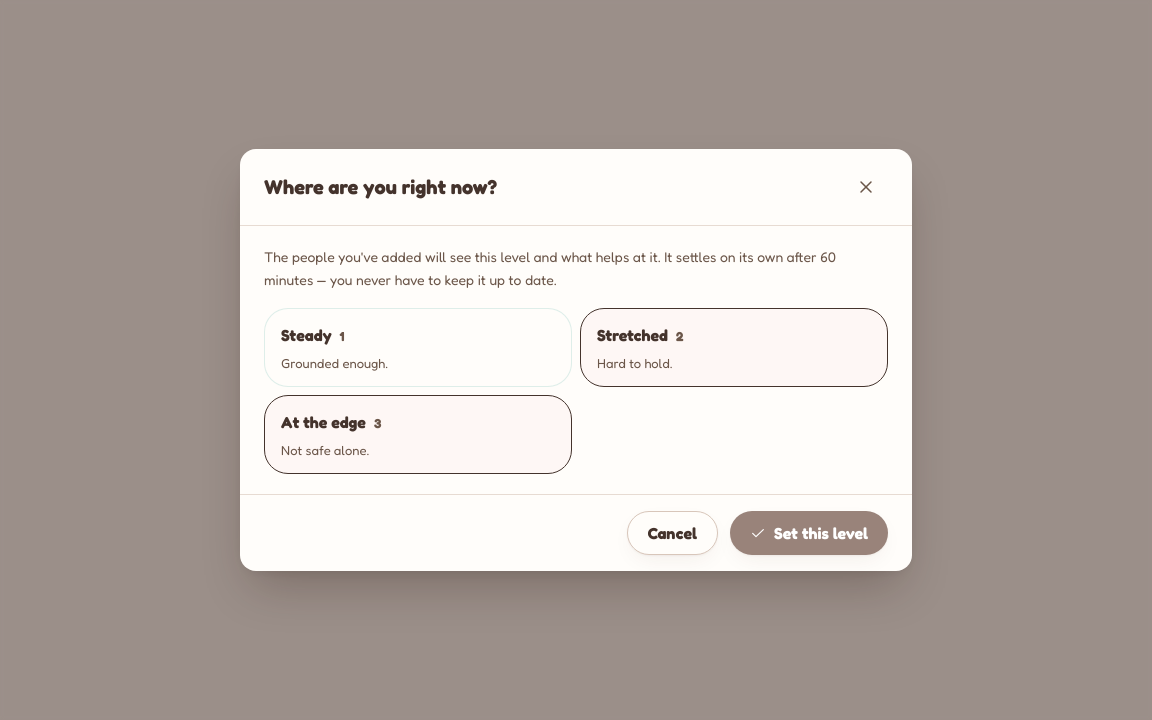
Scenario: SetLevelSheet › keeps confirm disabled until a level is chosen
Expected: the button "Set this level" is disabled, [730,511,888,555]
Step 1. Click the button "Steady 1 Grounded enough." → (306, 335), box [264,308,572,387]
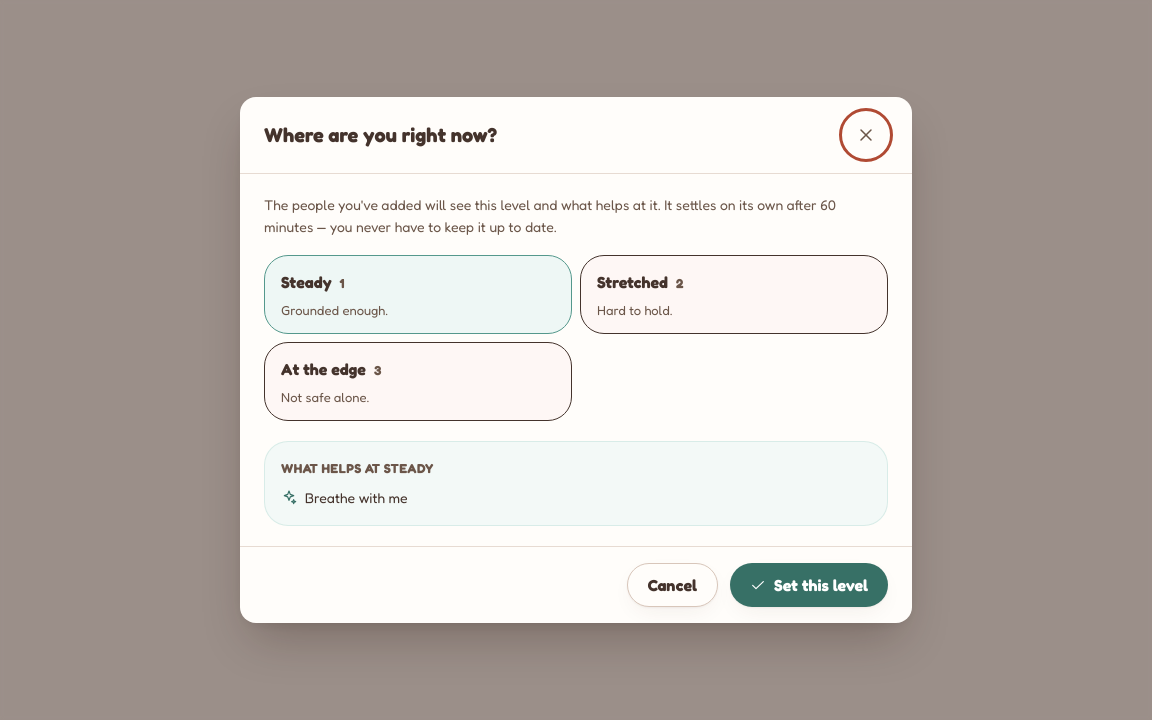
Expected: the button "Set this level" is enabled, [730,563,888,607]
